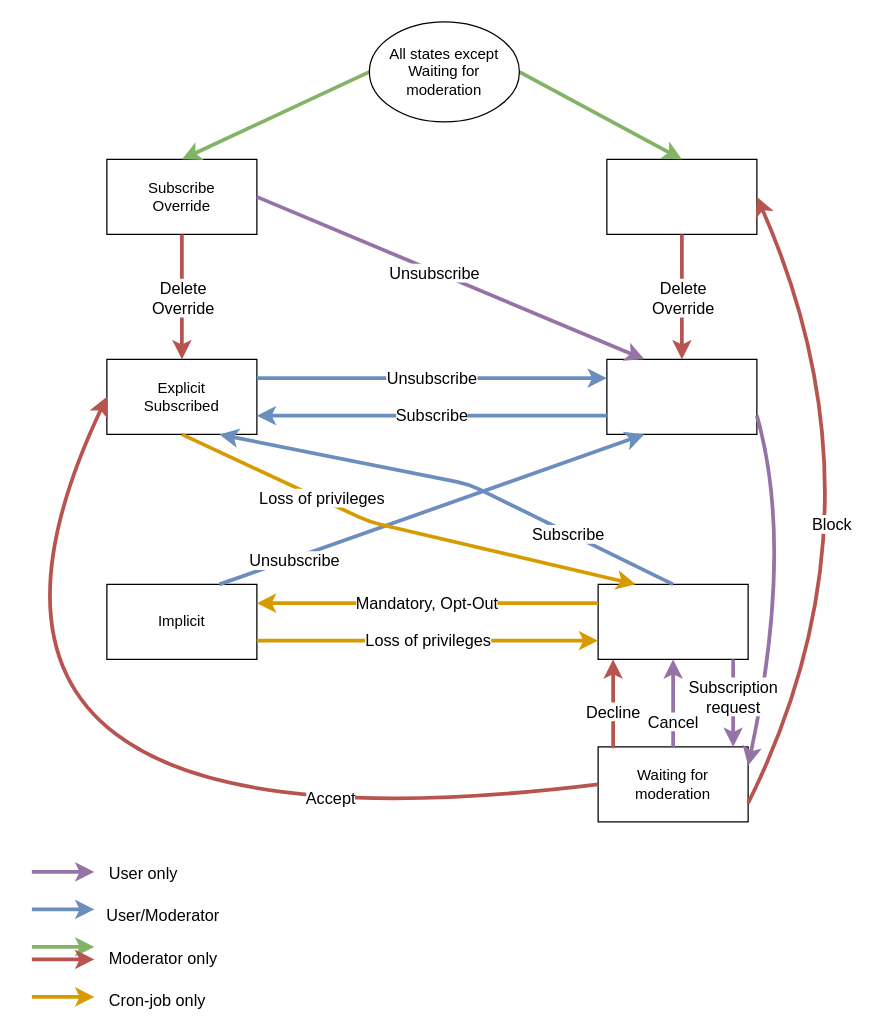
This 874x1035 diagram has some shape labels left out. Each missing label, with the box of its shape:
(Not subscribed): (597, 583, 748, 659)
Explicit Unsubscribed: (606, 358, 757, 434)
Unsubscribe Override: (606, 158, 757, 234)
